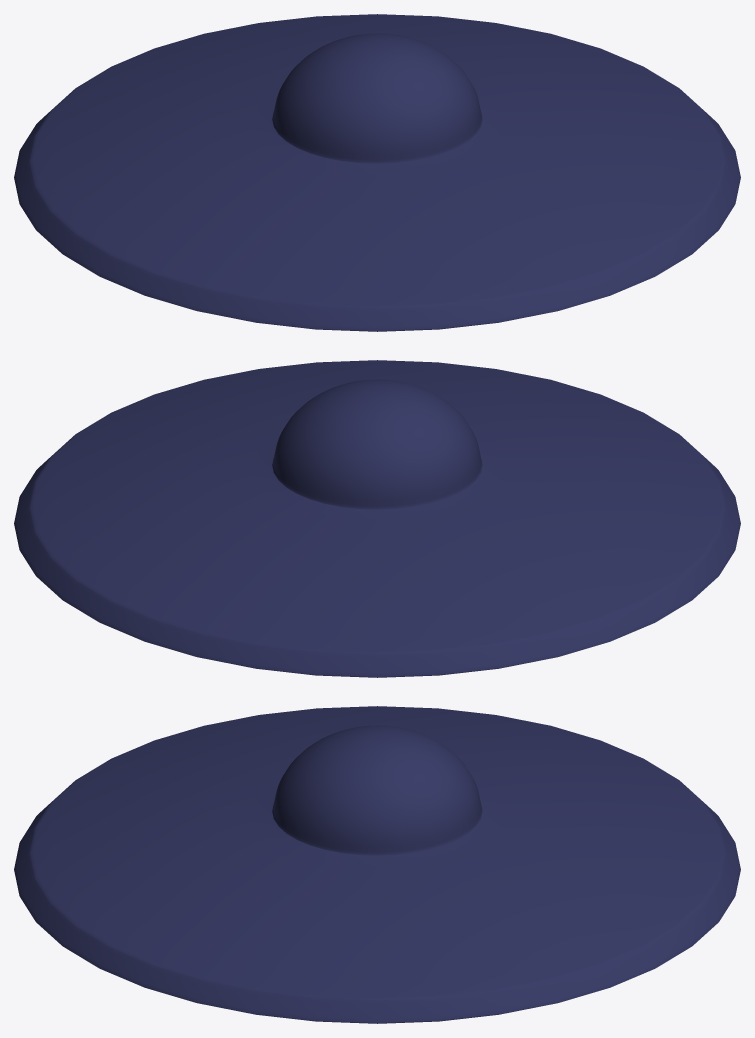
The model's file is UFO.fbx.
3 renders of one model, top to bottom at view 1: azimuth 30°, elevation 25°; view 2: azimuth 150°, elevation 25°; view 3: azimuth 270°, elevation 25°, orthographic.
Parts seen in each view (by area): view 1: Sphere; view 2: Sphere; view 3: Sphere.
Part boxes in pixels (bbox=[...]): Sphere: bbox=[14, 14, 740, 331]; Sphere: bbox=[14, 360, 740, 677]; Sphere: bbox=[14, 706, 740, 1023].
Bounding box in the file's own units: 680 × 225 × 680.
